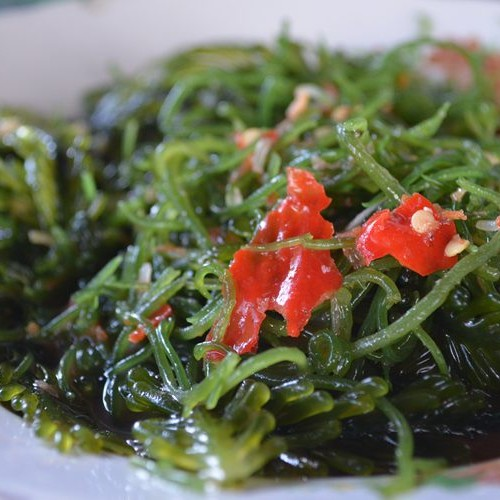bulung buni: (29, 53, 477, 469)
